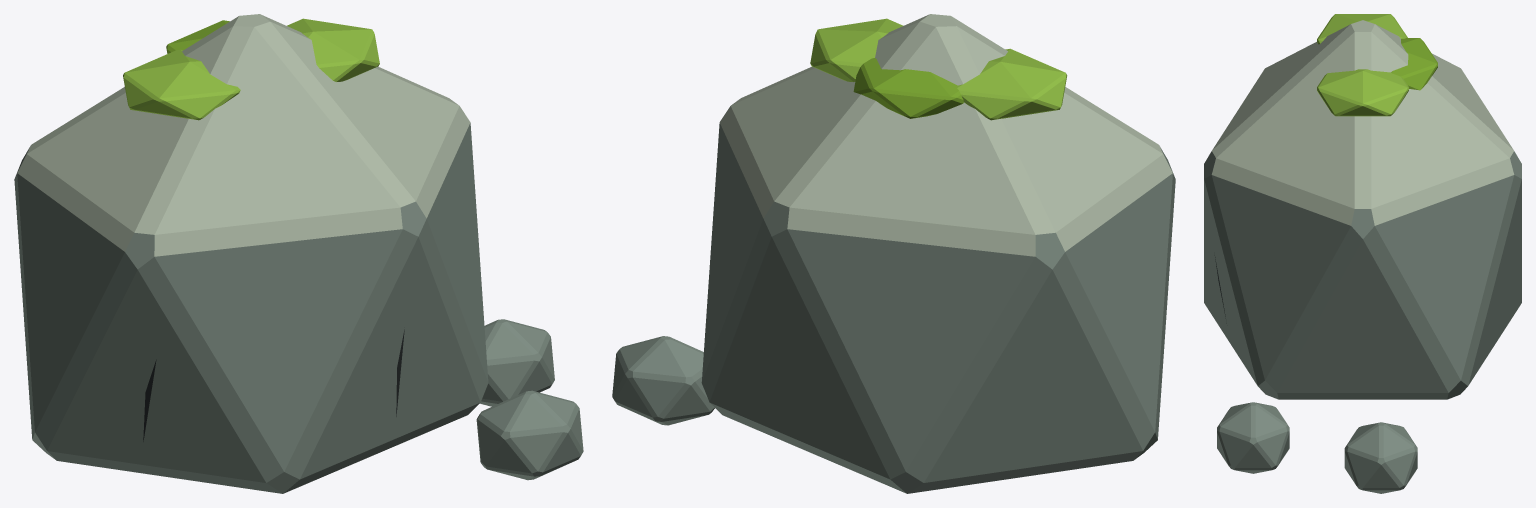
File: rock-4.glb
3 renders of one model, left to right at view 1: azimuth 30°, elevation 25°; view 2: azimuth 150°, elevation 25°; view 3: azimuth 270°, elevation 25°, orthographic. The views are drawn at different scales.
Visible parts, largest first — view 1: Rock 4.001, Rock 4 pebble 0.001, Rock 4 moss patch 0.001, Rock 4 pebble 1.001, Rock 4 moss patch 2.001; view 2: Rock 4.001, Rock 4 pebble 1.001, Rock 4 moss patch 0.001, Rock 4 moss patch 1.001, Rock 4 moss patch 2.001; view 3: Rock 4.001, Rock 4 pebble 1.001, Rock 4 pebble 0.001, Rock 4 moss patch 2.001, Rock 4 moss patch 1.001, Rock 4 moss patch 0.001.
Part boxes in pixels (x1,y1,x2,y2): Rock 4.001: (14,14,488,493); Rock 4 pebble 0.001: (476,390,583,480); Rock 4 moss patch 0.001: (123,49,240,120); Rock 4 pebble 1.001: (480,319,554,406); Rock 4 moss patch 2.001: (287,18,379,81); Rock 4.001: (701,14,1175,493); Rock 4 pebble 1.001: (612,336,714,425); Rock 4 moss patch 0.001: (957,48,1067,120); Rock 4 moss patch 1.001: (853,58,963,118); Rock 4 moss patch 2.001: (810,18,903,81); Rock 4.001: (1204,20,1521,399); Rock 4 pebble 1.001: (1344,422,1417,493); Rock 4 pebble 0.001: (1217,402,1289,473); Rock 4 moss patch 2.001: (1317,69,1408,116); Rock 4 moss patch 1.001: (1391,38,1437,90); Rock 4 moss patch 0.001: (1317,14,1407,44).
Bounding box in the file's own units: 1.32 × 1.1 × 0.8696.
